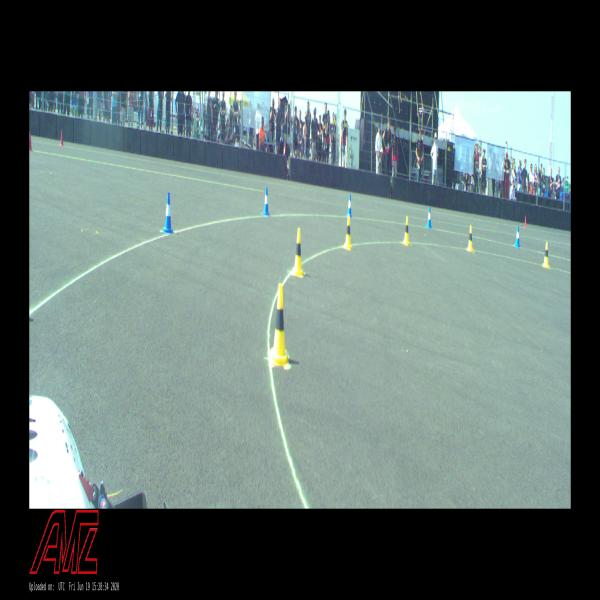blue_cone: (162, 193, 174, 234), (262, 188, 269, 215), (346, 195, 352, 216), (426, 207, 432, 228), (515, 225, 520, 246)
unknown_cone: (60, 130, 63, 145), (30, 133, 32, 151), (524, 215, 526, 228)
yellow_cone: (270, 284, 290, 366), (291, 228, 304, 277), (344, 216, 352, 249), (402, 216, 410, 244), (542, 242, 550, 268), (466, 226, 474, 251)
